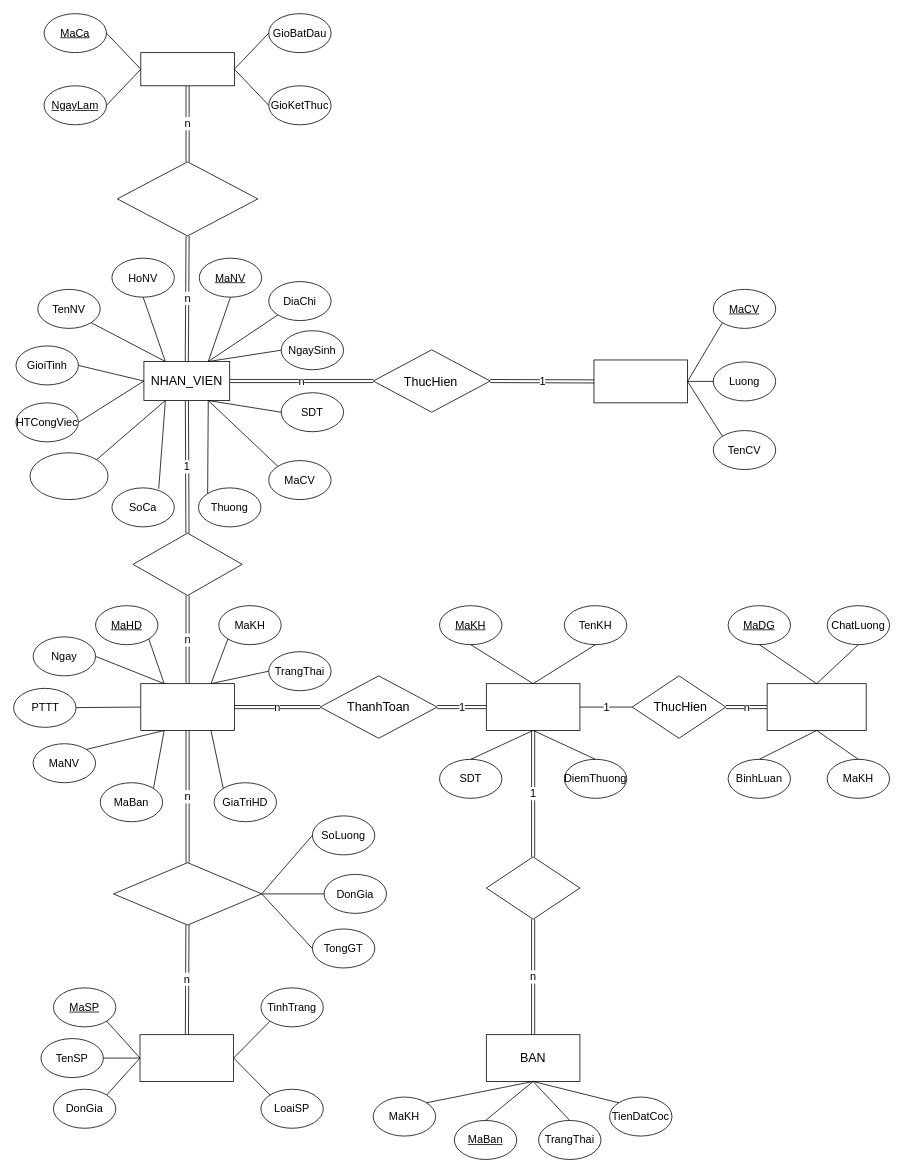
Image size: 903x1173. Some labels were removed from this diagram. Each missing label, with the box of its shape:
BangPhanCong: (117, 161, 258, 236)
CA_LAM: (140, 52, 234, 86)
ChiTietHD: (113, 862, 262, 925)
CONG_VIEC: (593, 359, 688, 403)
DANH_GIA: (766, 683, 866, 730)
DatBan: (486, 856, 580, 919)
HOA_DON: (140, 683, 234, 730)
KHACH_HANG: (486, 683, 580, 730)
LamHD: (132, 532, 242, 596)
NgayTuyenDung: (29, 452, 108, 500)
SAN_PHAM: (139, 1034, 234, 1081)
